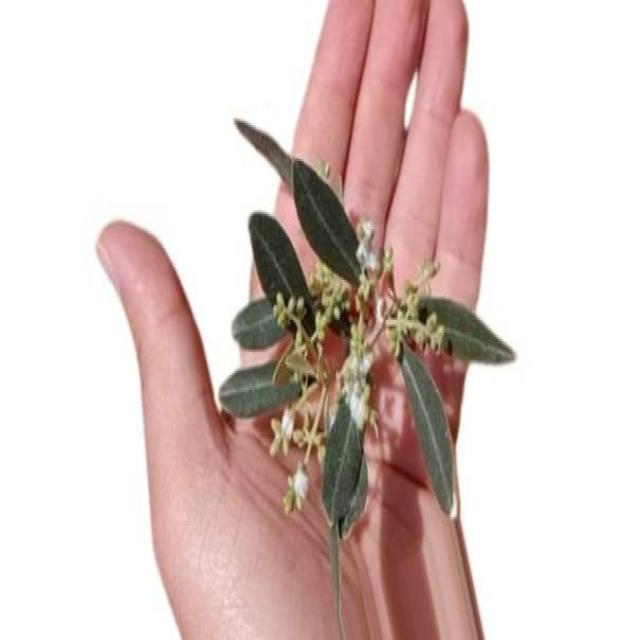Psyllid: (341, 343, 376, 434), (282, 462, 308, 513), (270, 407, 295, 456)
